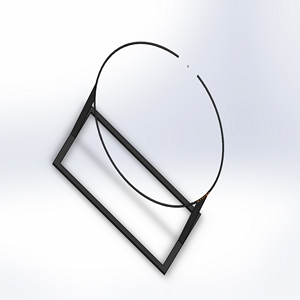circle: (51, 38, 226, 275)
